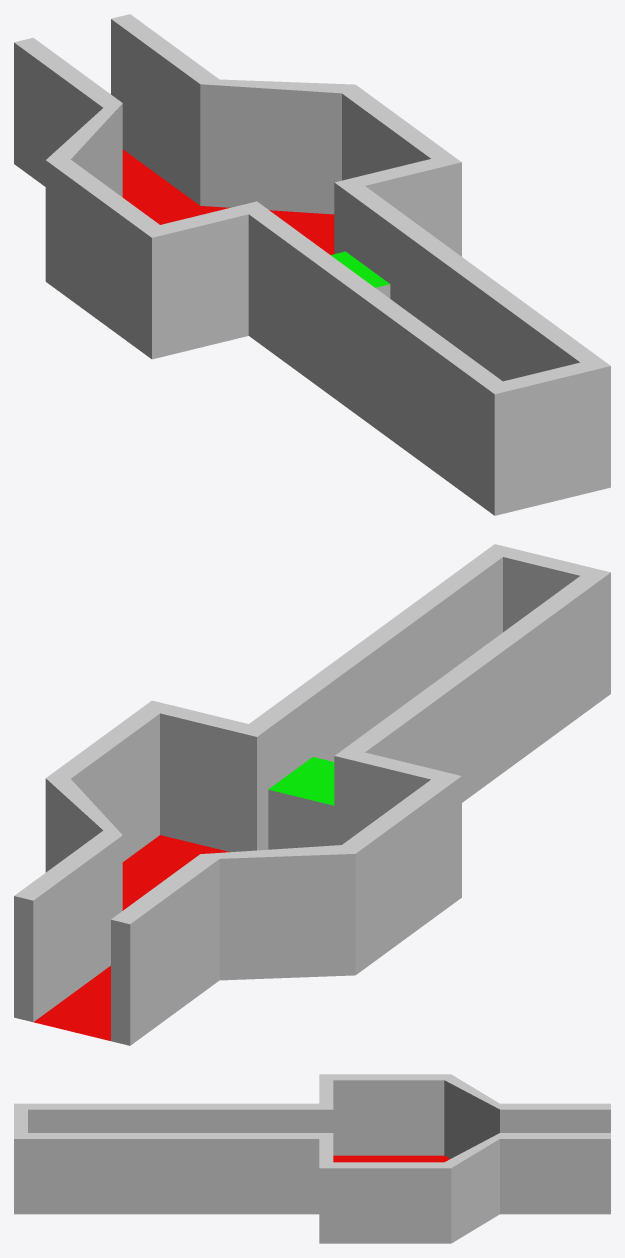
The model's file is Sala0.glb.
3 views of the same model, one above another, from view 1: azimuth 30°, elevation 25°; view 2: azimuth 150°, elevation 25°; view 3: azimuth 270°, elevation 25° (orthographic). The views are drawn at different scales.
Parts seen in each view (by area): view 1: Sala0; view 2: Sala0; view 3: Sala0.
Boxes of the visible parts, left/top/right/bottom form: Sala0: left=14, top=14, right=610, bottom=515; Sala0: left=14, top=544, right=610, bottom=1045; Sala0: left=14, top=1074, right=610, bottom=1243.
Bounding box in the file's own units: 16 × 6 × 43.
